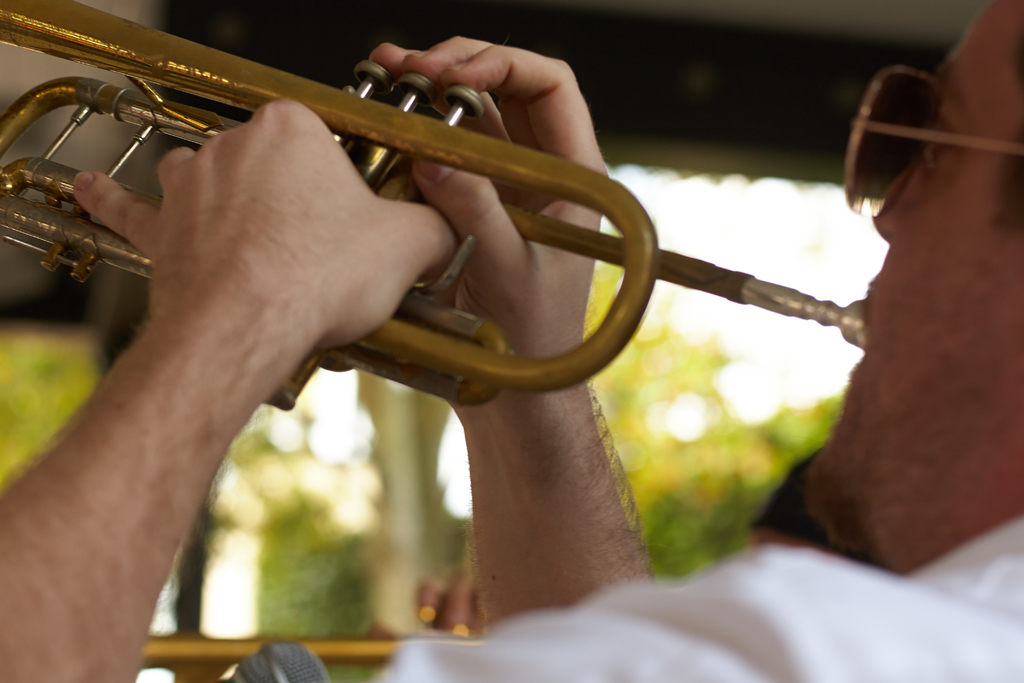Human_hand: (69, 94, 461, 357), (369, 37, 610, 352)
